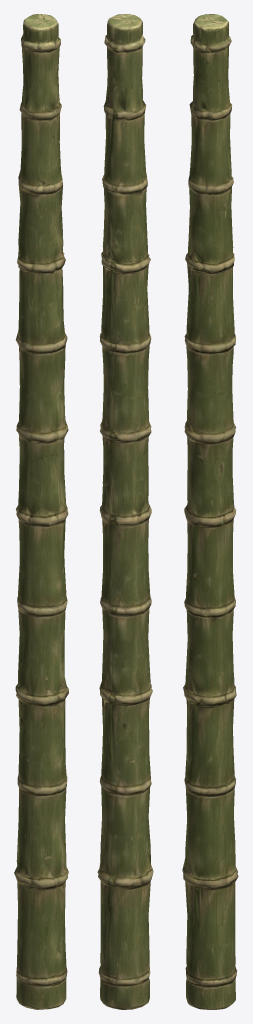
Rendered from obstacle-wall-stem.glb.
3 renders of one model, left to right at view 1: azimuth 90°, elevation 25°; view 2: azimuth 150°, elevation 25°; view 3: azimuth 330°, elevation 25°, orthographic.
Bounding box in the file's own units: 0.0978 × 1.9 × 0.0966.
Materials: 1 (1 with a texture image).
